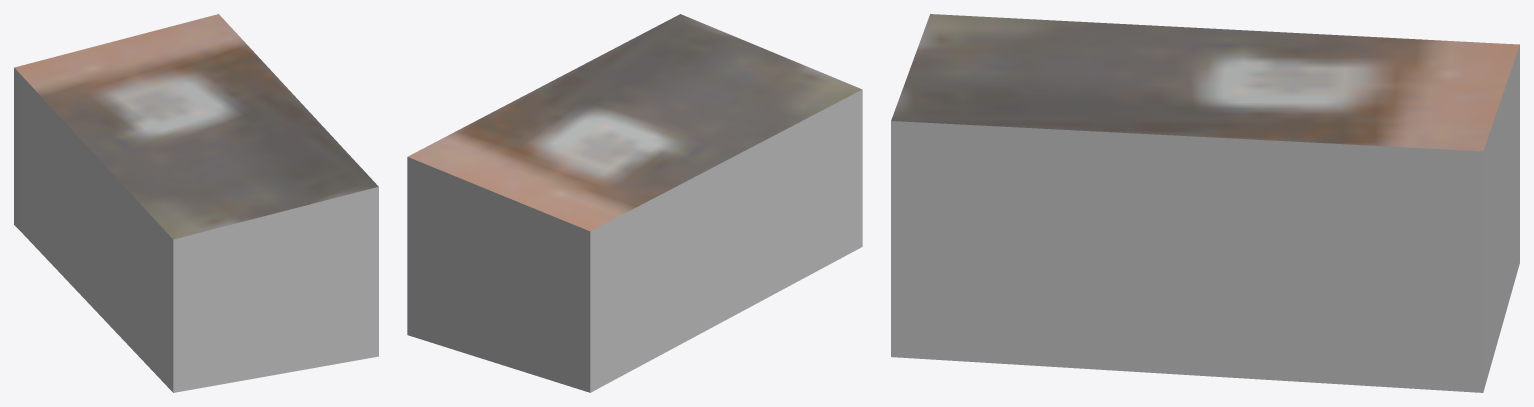
Rendered from DEBW_0010007Tx5x.gltf.
The picture shows the model from 3 angles, left to right: view 1: azimuth 30°, elevation 25°; view 2: azimuth 150°, elevation 25°; view 3: azimuth 270°, elevation 25°; orthographic projection. The views are drawn at different scales.
Parts seen in each view (by area): view 1: Z_UP; view 2: Z_UP; view 3: Z_UP.
Part boxes in pixels (box(x1,y1,x2,y2)): Z_UP: box(14, 14, 378, 392); Z_UP: box(407, 14, 862, 392); Z_UP: box(891, 14, 1519, 392).
Bounding box in the file's own units: 4.71 × 3.2 × 7.55.
2 materials, 1 textured.
